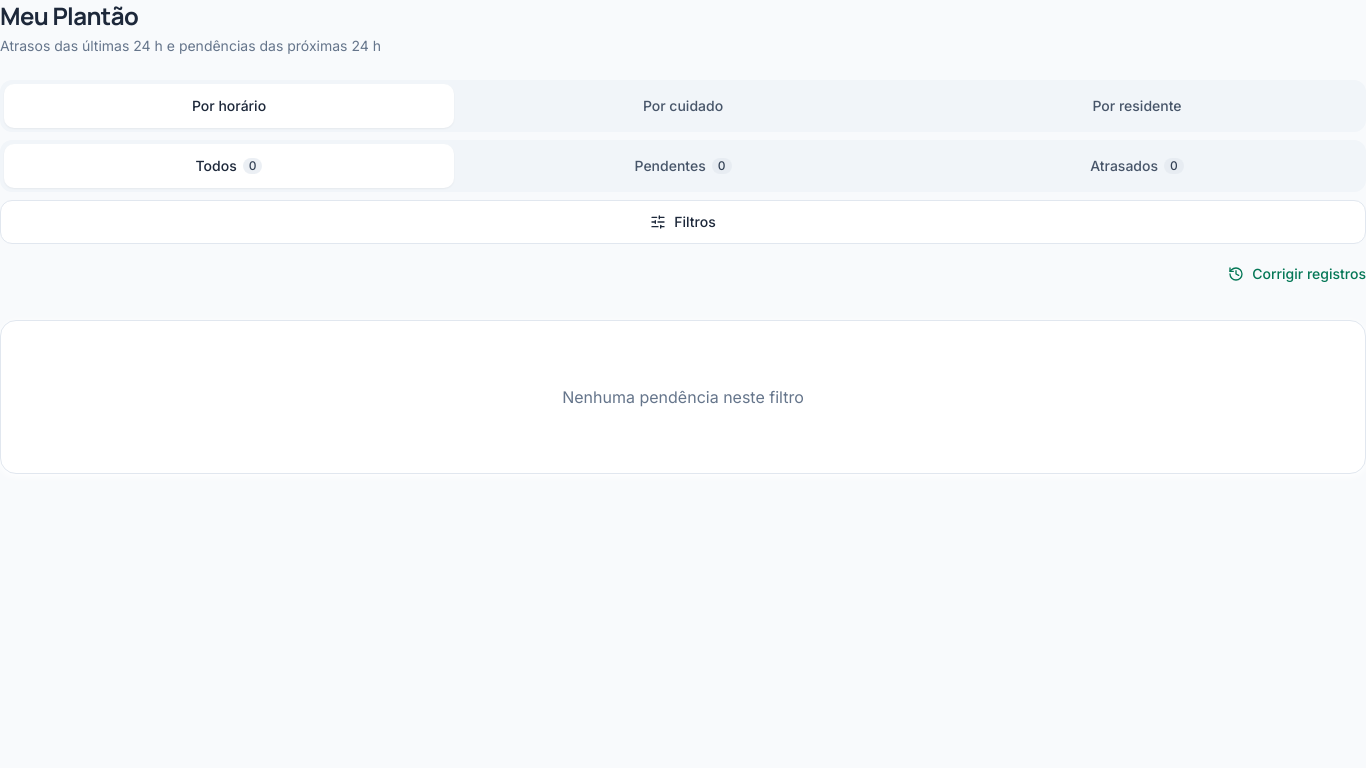
Scenario: UX-01F — corrigir registros (decisão A) › lista as últimas 24 h com o que foi feito e por quem; corrigido fica visível, sem novo Corrigir
This screenshot has width=1366, height=768.
Step 1. Click the button "Corrigir registros" → [1297, 274], box [1228, 252, 1365, 296]
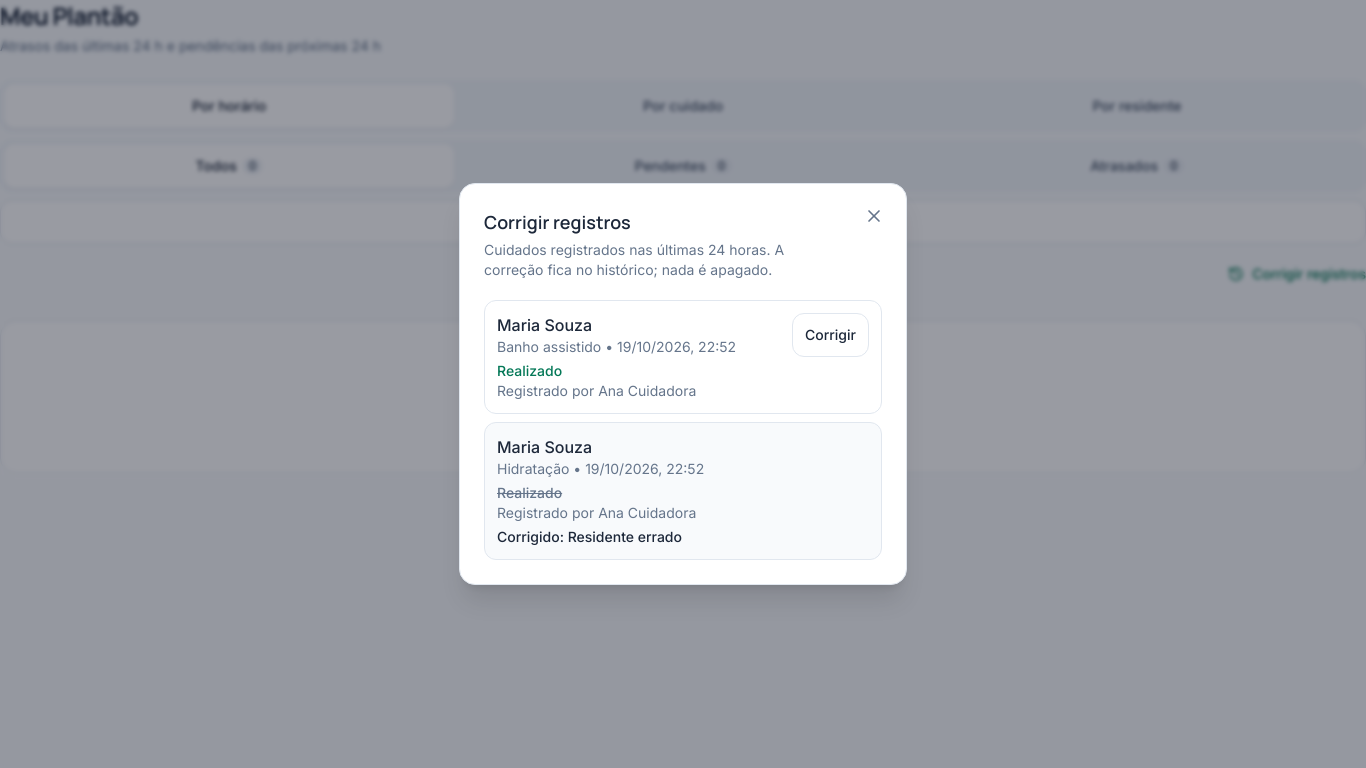
expect the text "Banho assistido • 19/10/2026, 22:52" is shown: met, box [497, 338, 736, 355]
expect the text "Registrado por Ana Cuidadora" is shown 2 times: met, box [497, 382, 696, 399]; [497, 504, 696, 521]
expect the text "Corrigido: Residente errado" is shown: met, box [497, 528, 682, 545]
